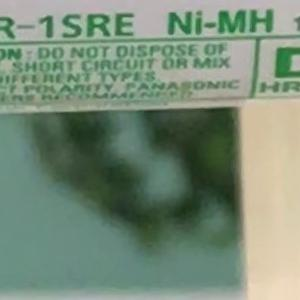NI-MH: (159, 1, 272, 44)
